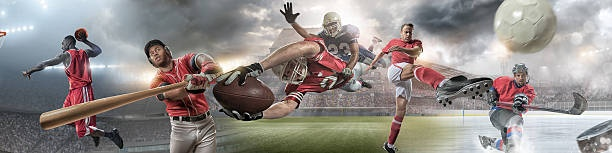bita: (32, 78, 194, 130)
